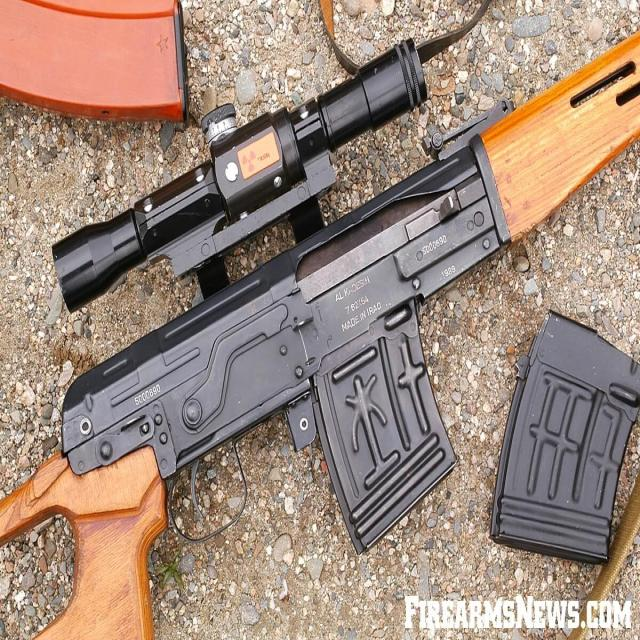Rifle: (0, 41, 640, 640)
